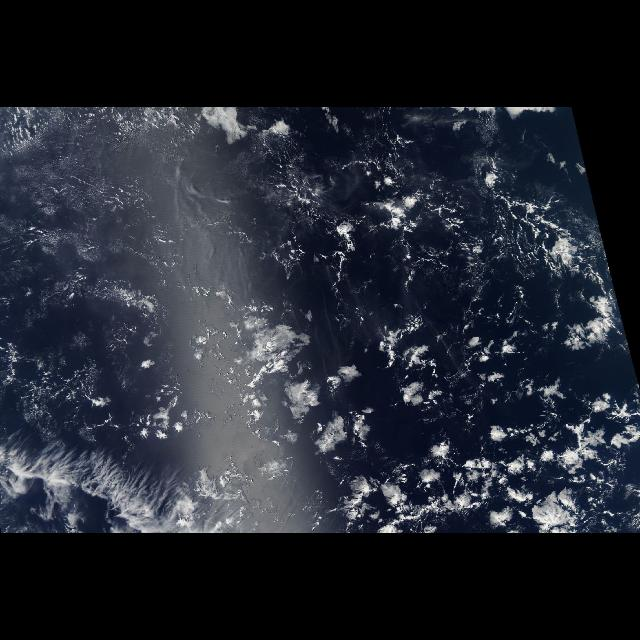Fish: (3, 436, 213, 530)
Gravel: (393, 165, 561, 298)
Sugar: (6, 120, 232, 360)
